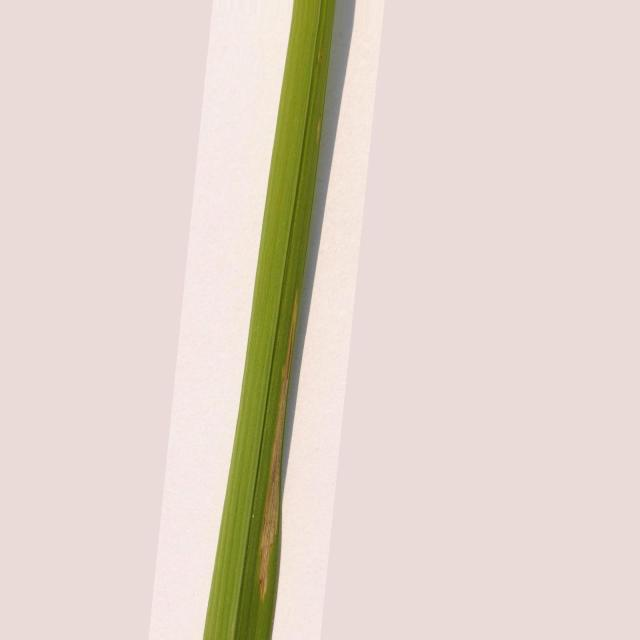Bacterial_Leaf_Blight: (259, 289, 300, 601)
